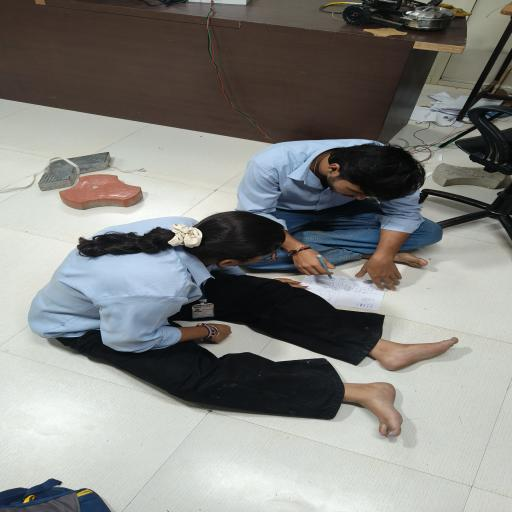survivor: (27, 210, 460, 438), (234, 138, 444, 292)
